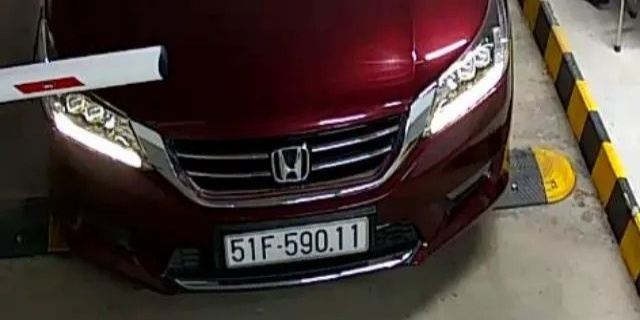bien_so: (224, 222, 367, 263)
